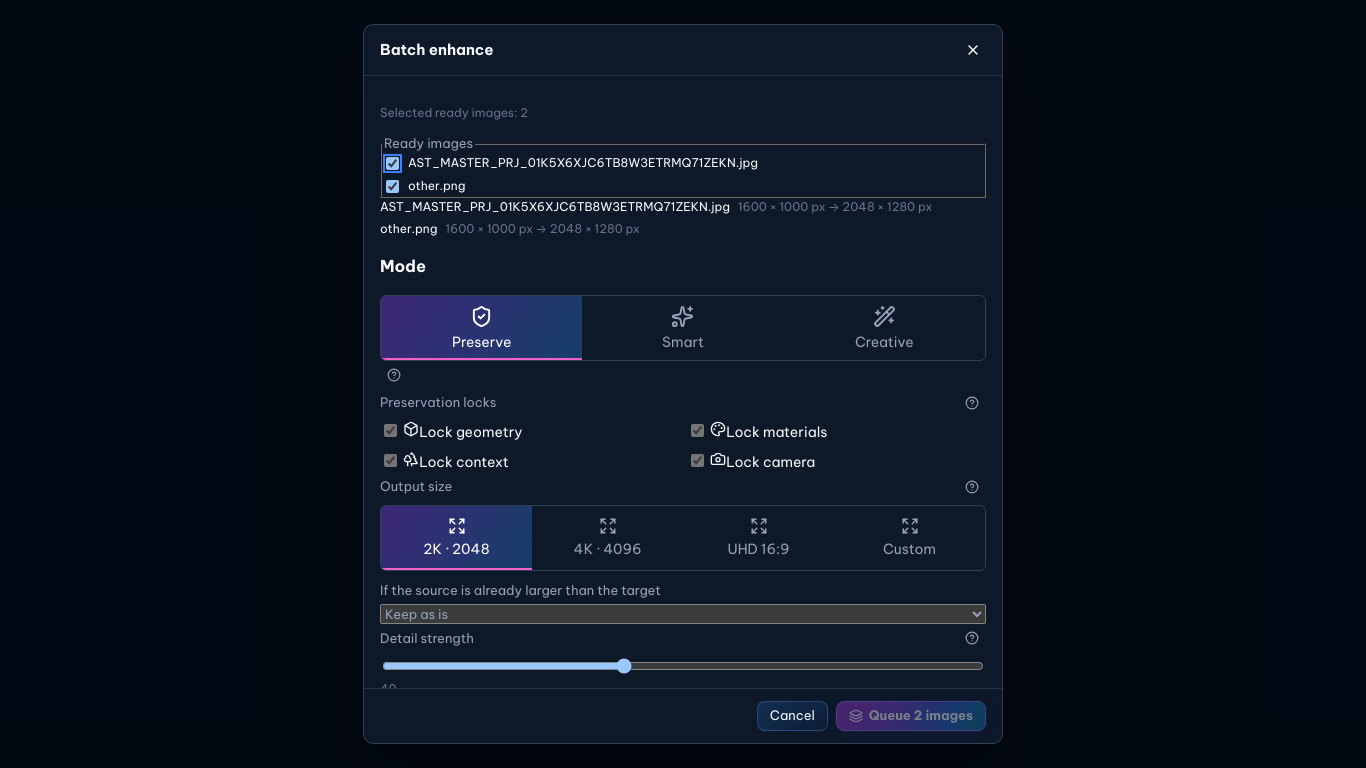
exception panel on the batch surfaces › Enhance batch (generative): WARN does not disable the submit
The image size is (1366, 768).
Click the button with test id "enhance-mode-balanced": (683, 328) [582,296,784,360]
(page scrolled)
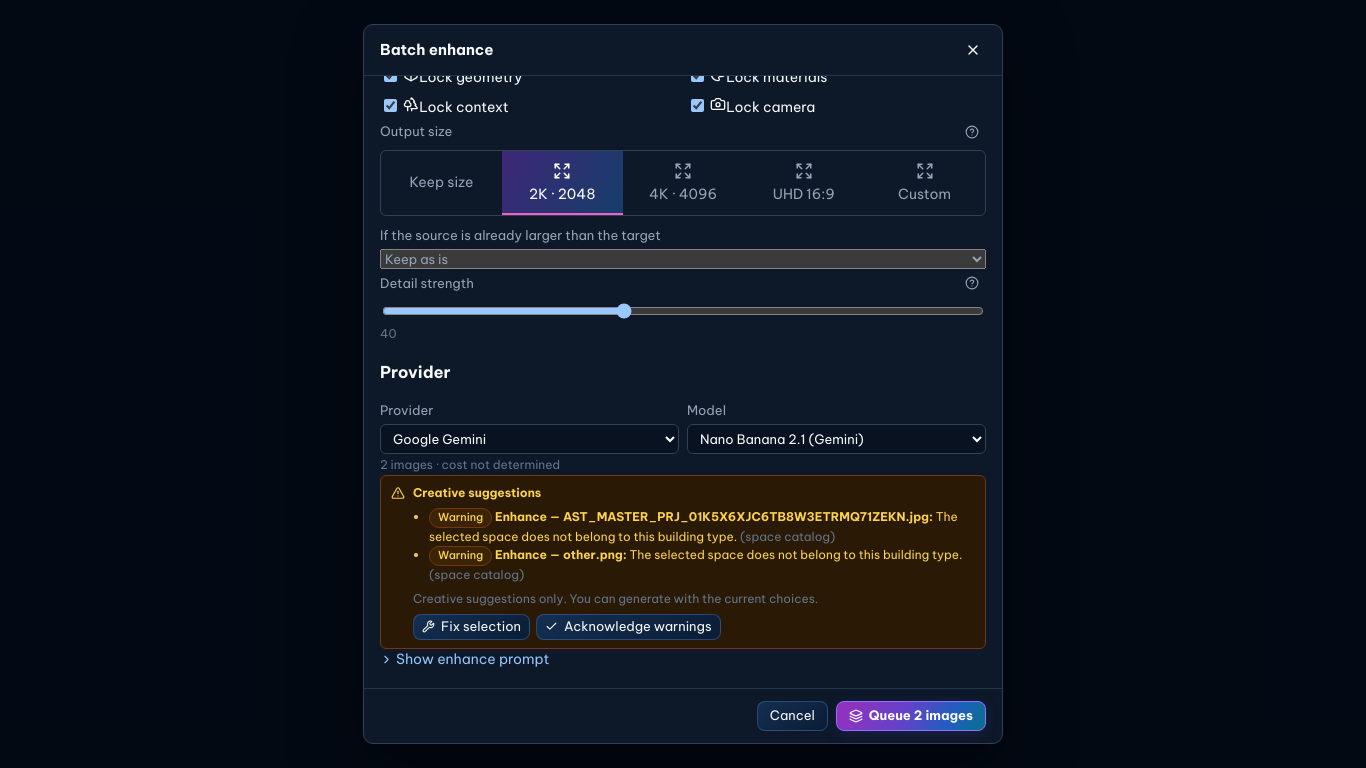
Now the message with test id "conflict-panel" shows "The selected space does not belong to this building type.", box [429,508,958,544]
Now the button with test id "enhance-batch-submit" is enabled, box [836,701,986,731]
Click the button with test id "conflict-approve": (628, 626) [536,614,720,640]
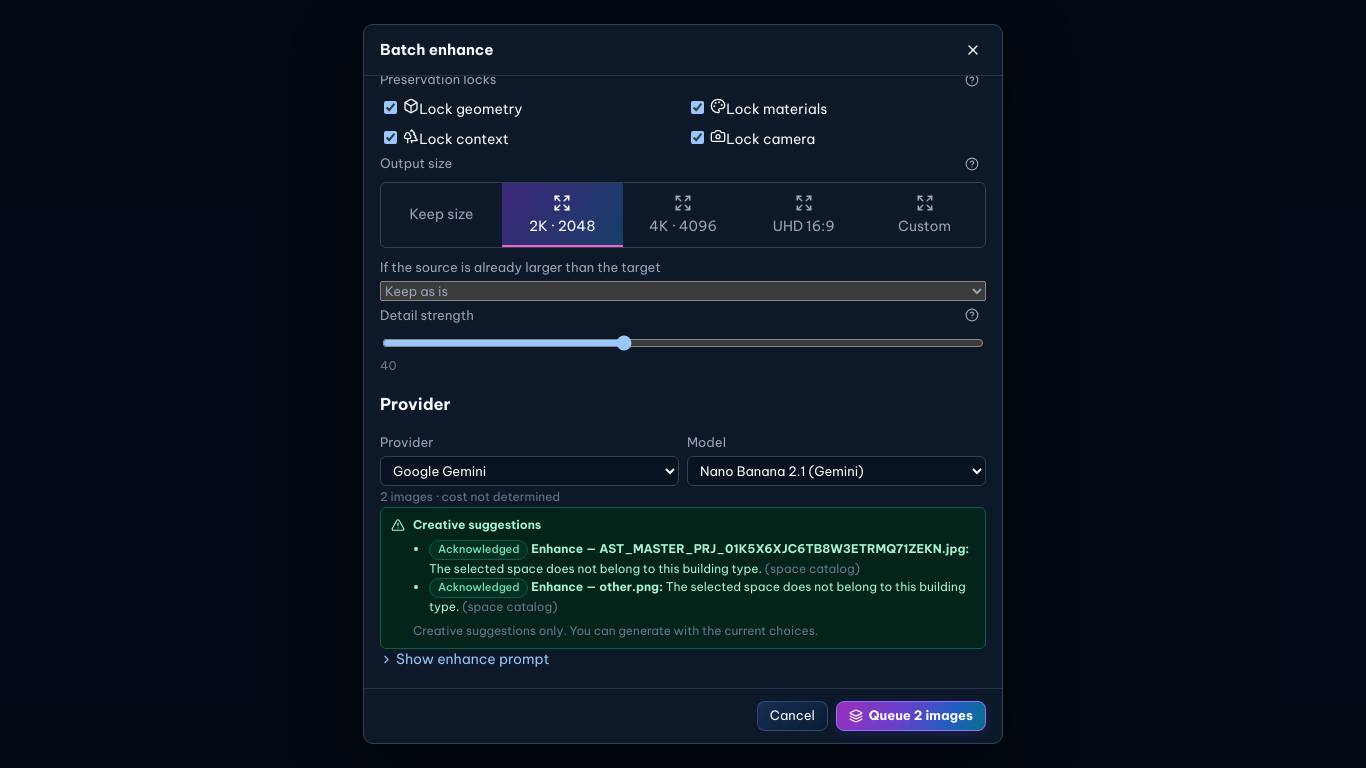
Now the button with test id "enhance-batch-submit" is enabled, box [836,701,986,731]
Now the message with test id "conflict-panel" shows "Acknowledged", box [438,542,520,556]
